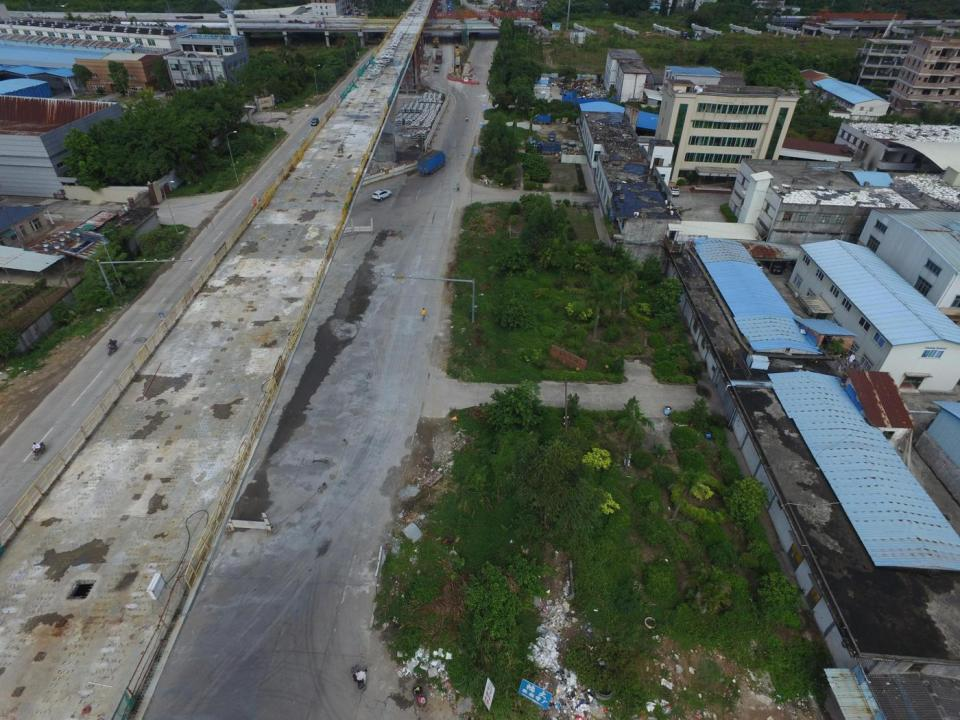car: (746, 252, 762, 274), (765, 255, 783, 274), (372, 188, 392, 201), (310, 117, 320, 127), (548, 131, 556, 142)
truck: (418, 151, 446, 175), (535, 141, 561, 156), (532, 114, 551, 123), (435, 51, 443, 64), (680, 28, 688, 40), (432, 36, 440, 48)
van: (665, 186, 680, 196), (434, 65, 439, 71)
